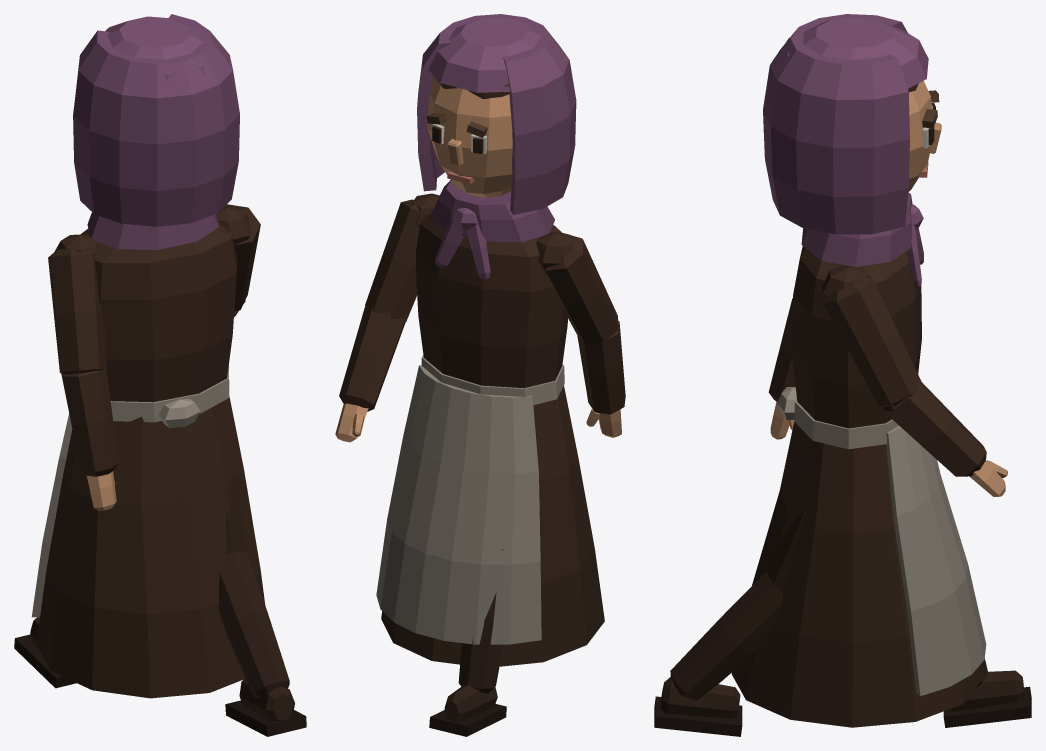
File: chr_helena_w1.glb
3 renders of one model, left to right at view 1: azimuth 30°, elevation 25°; view 2: azimuth 150°, elevation 25°; view 3: azimuth 270°, elevation 25°, orthographic. The views are drawn at different scales.
Visible parts, largest first — view 1: chr_helena_w1; view 2: chr_helena_w1; view 3: chr_helena_w1.
Part boxes in pixels (x1,y1,x2,y2): chr_helena_w1: [14, 14, 306, 736]; chr_helena_w1: [335, 14, 625, 736]; chr_helena_w1: [654, 14, 1031, 736].
Size of the model in its own units: 0.5584 by 1.62 by 0.7872.
